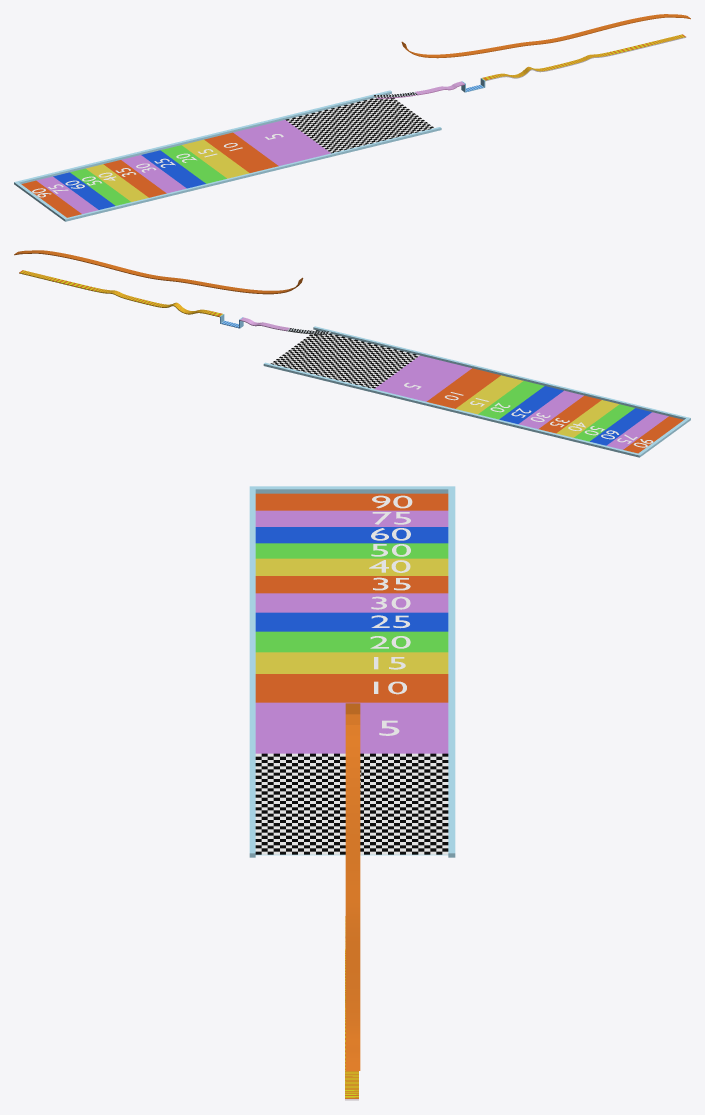
Rendered from map.fbx.
The picture shows the model from 3 angles, top to bottom: view 1: azimuth 30°, elevation 25°; view 2: azimuth 150°, elevation 25°; view 3: azimuth 270°, elevation 25°; orthographic projection. The views are drawn at different scales.
Visible parts, largest first — view 1: Cube.001, NurbsPath.002, NurbsPath, NurbsPath.001; view 2: Cube.001, NurbsPath.002, NurbsPath, NurbsPath.001; view 3: Cube.001, NurbsPath.002.
Boxes of the visible parts, x1,y1,x2,y2 form: Cube.001: (14,90,441,221); NurbsPath.002: (401,14,690,58); NurbsPath: (483,34,686,80); NurbsPath.001: (374,81,464,98); Cube.001: (263,326,690,457); NurbsPath.002: (14,250,303,294); NurbsPath: (19,270,221,316); NurbsPath.001: (240,317,330,334); Cube.001: (249,486,455,857); NurbsPath.002: (345,703,360,1070).
Bounding box in the file's own units: 11082 × 1166 × 1518.
